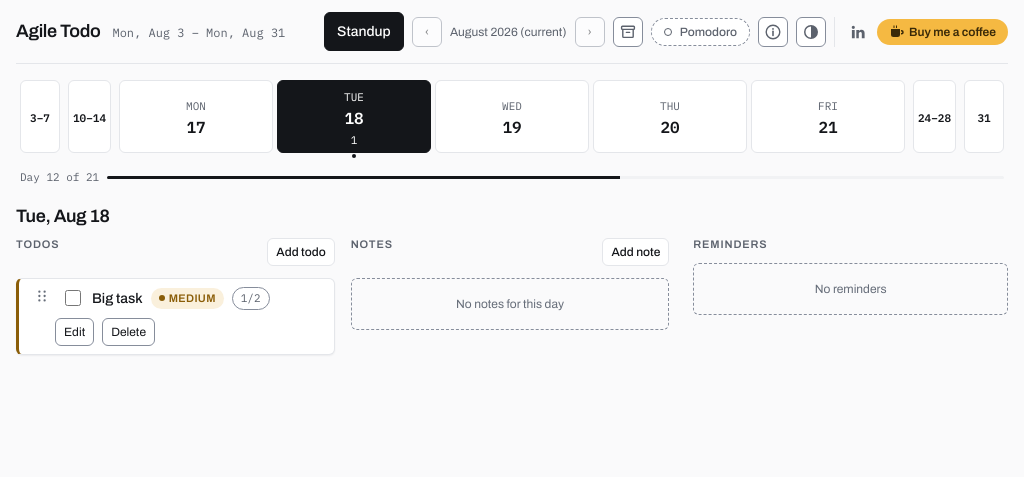
Test: todo checklists › renders a collapsed counter that expands to the item list
The width and height of the screenshot is (1024, 477).
Expected: the checkbox labelled "one" is not shown
Click the button named "1/2 checklist items done": (251, 298) [232,287,270,310]
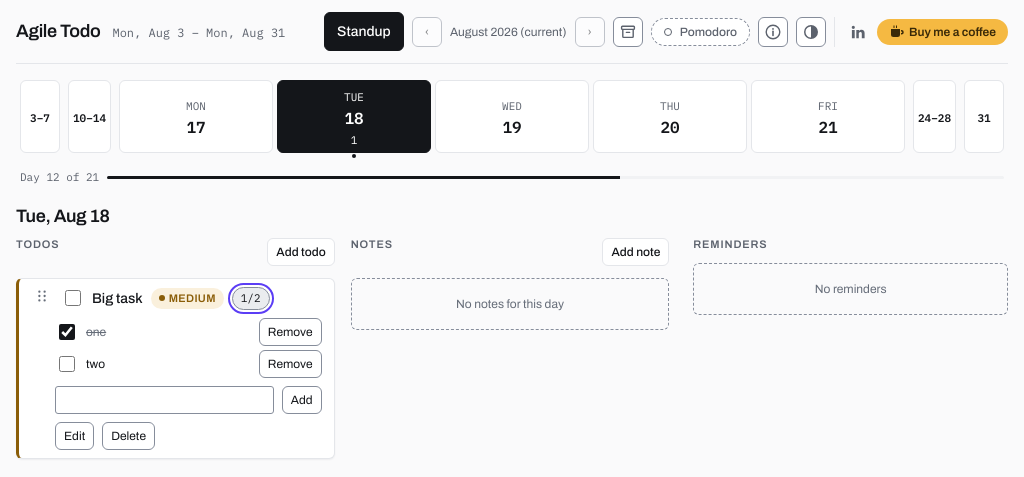
Expected: the button named "1/2 checklist items done" is expanded, [232,287,270,310]
Expected: the checkbox labelled "one" is checked, [59,324,75,340]
Expected: the checkbox labelled "two" is not checked, [59,356,75,372]
